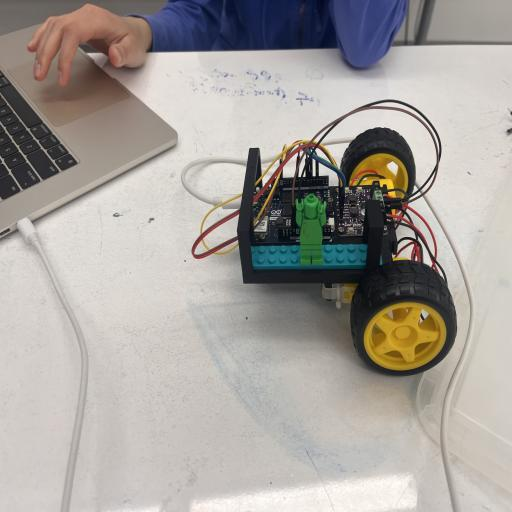Lego-Minifig: (296, 194, 326, 265)
